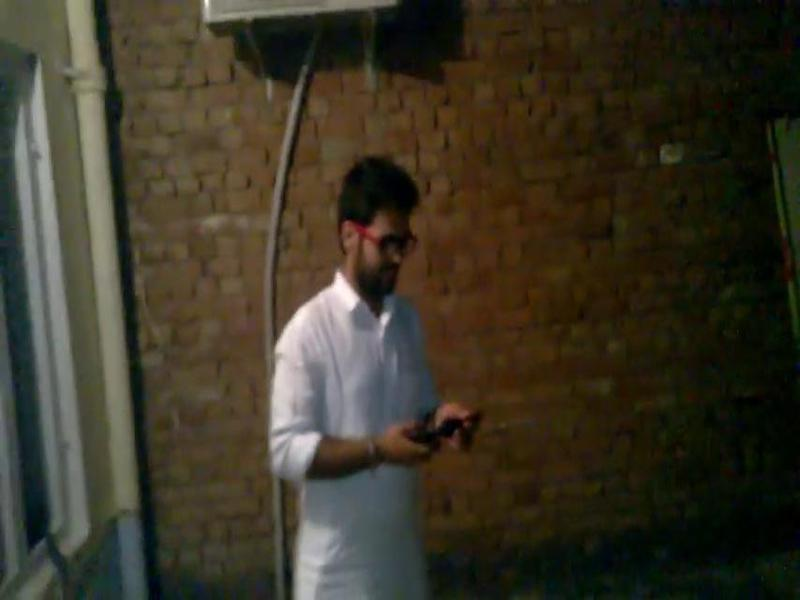Revolver: (386, 394, 494, 475)
